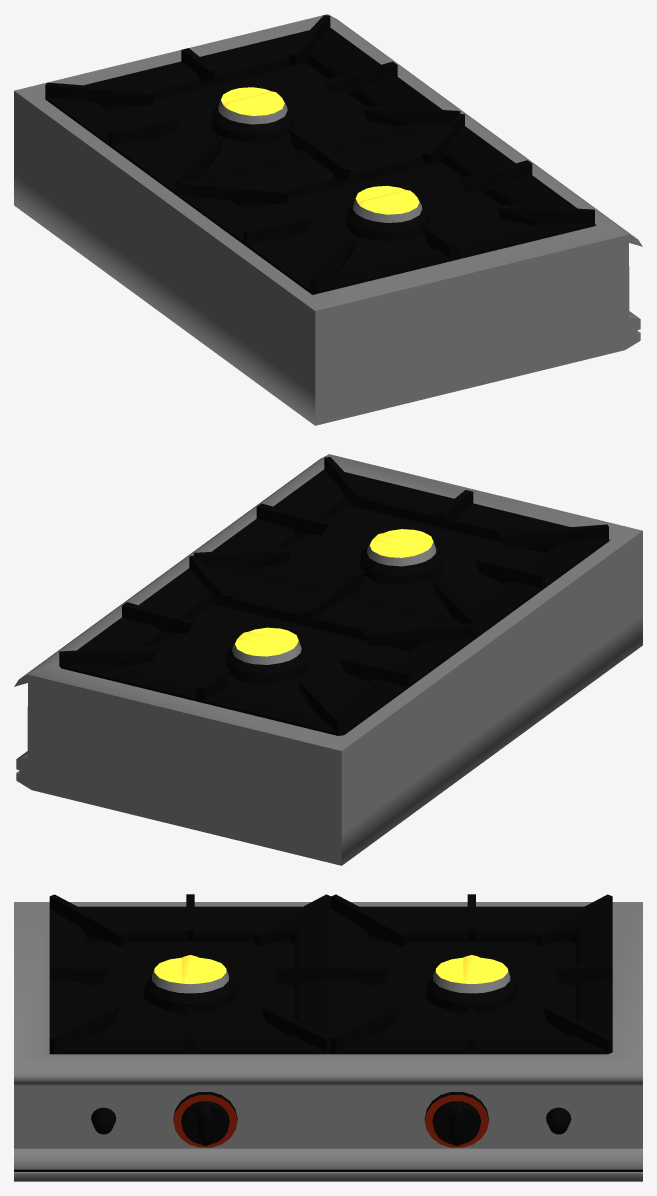
Rendered from oven.fbx.
The picture shows the model from 3 angles, top to bottom: view 1: azimuth 30°, elevation 25°; view 2: azimuth 150°, elevation 25°; view 3: azimuth 270°, elevation 25°; orthographic projection. The views are drawn at different scales.
Parts seen in each view (by area): view 1: Oven; view 2: Oven; view 3: Oven.
Boxes of the visible parts, x1=… form: Oven: x1=14, y1=14, x2=642, y2=425; Oven: x1=14, y1=454, x2=642, y2=865; Oven: x1=14, y1=894, x2=642, y2=1181.
Size of the model in its own units: 212 by 78.76 by 332.
